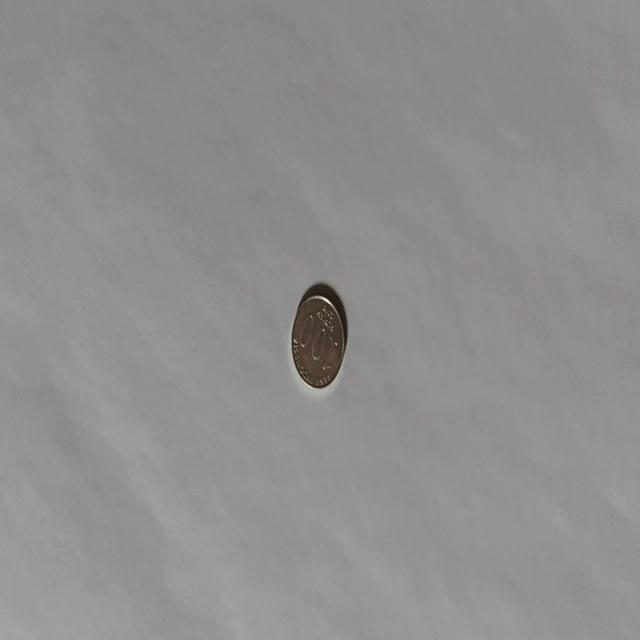seratus rupiah: (290, 292, 345, 389)
